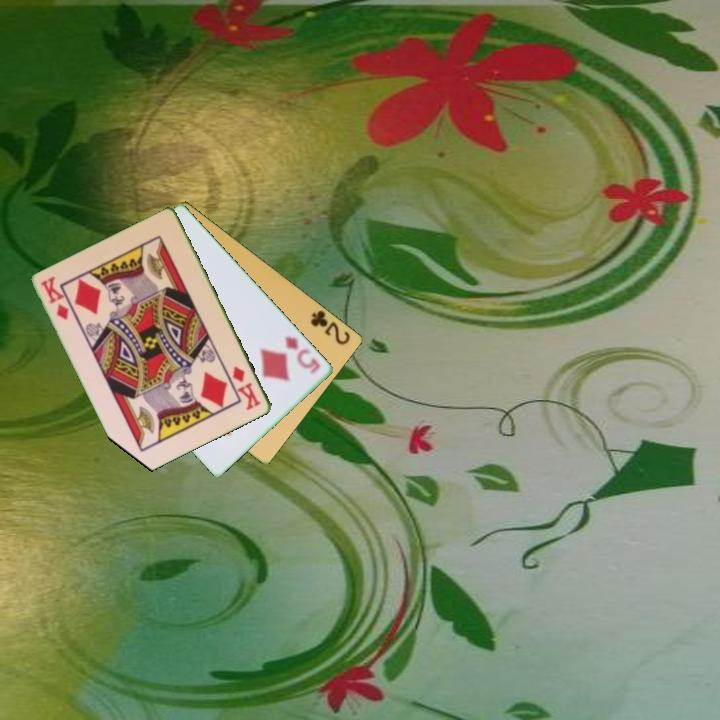2c: (307, 306, 354, 348)
5d: (282, 333, 323, 377)
Kd: (229, 362, 264, 413), (37, 273, 72, 323)
